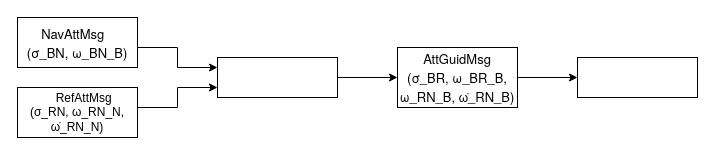
Image size: 715x155. Some labels were removed from this diagram. The centre of each missing label's shape, as x and y in pixels:
attTrackingError: point (277, 77)
Controllers (e.g. mrpPD): point (637, 77)
